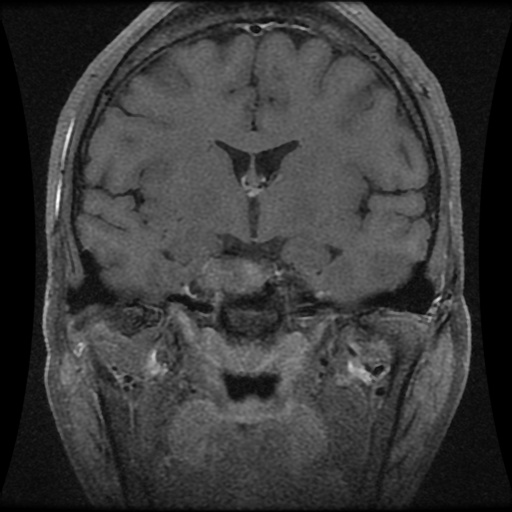pituitary: (201, 257, 273, 295)
